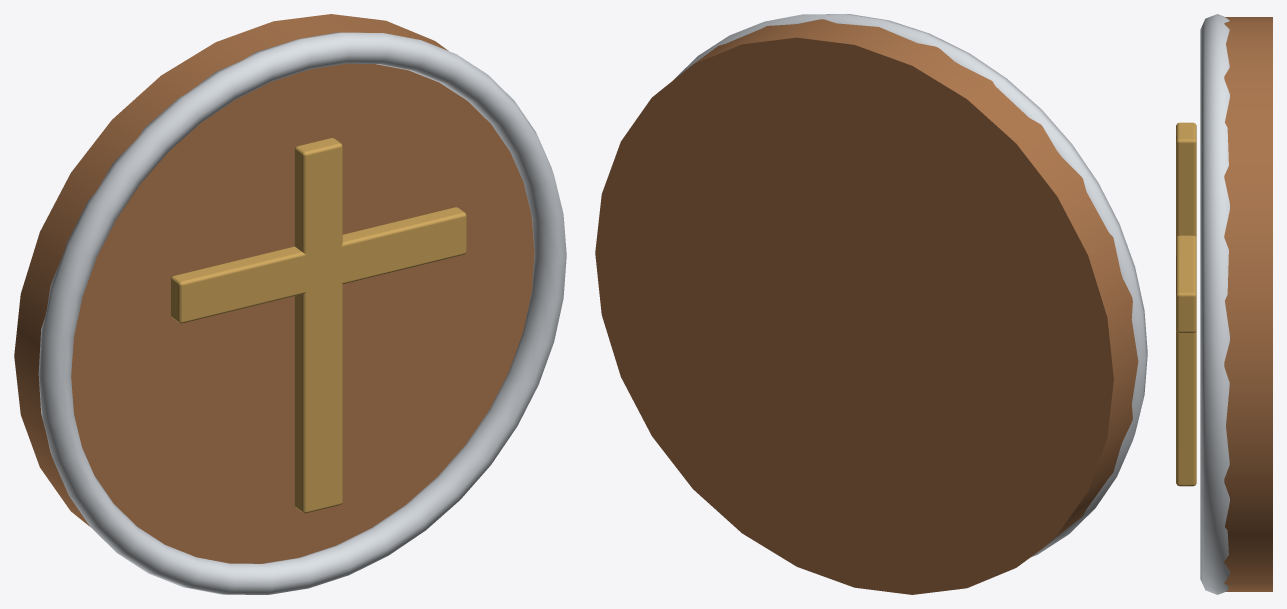
File: wp-bouclier-rond.glb
3 renders of one model, left to right at view 1: azimuth 30°, elevation 25°; view 2: azimuth 150°, elevation 25°; view 3: azimuth 270°, elevation 25°, orthographic. The views are drawn at different scales.
Parts seen in each view (by area): view 1: wp-bouclier-rond; view 2: wp-bouclier-rond; view 3: wp-bouclier-rond.
Part boxes in pixels (bbox=[...]): wp-bouclier-rond: bbox=[14, 14, 566, 594]; wp-bouclier-rond: bbox=[595, 14, 1147, 594]; wp-bouclier-rond: bbox=[1176, 14, 1272, 594].
Bounding box in the file's own units: 0.6 × 0.6 × 0.1.
